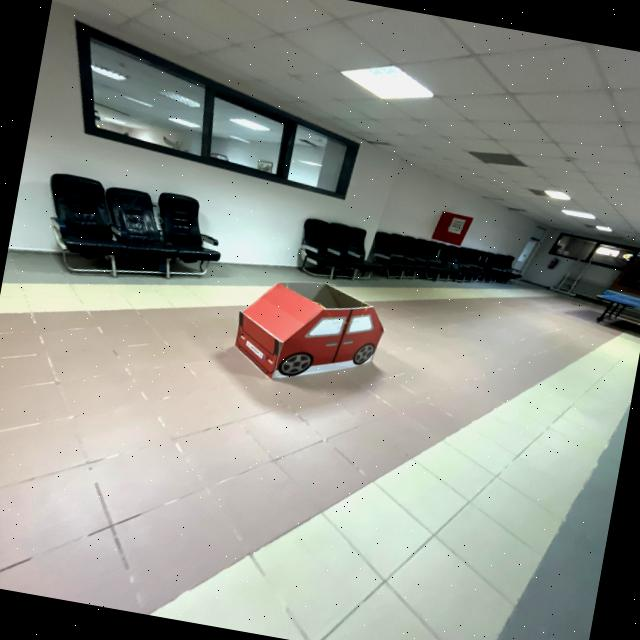red_car: (206, 257, 409, 412)
